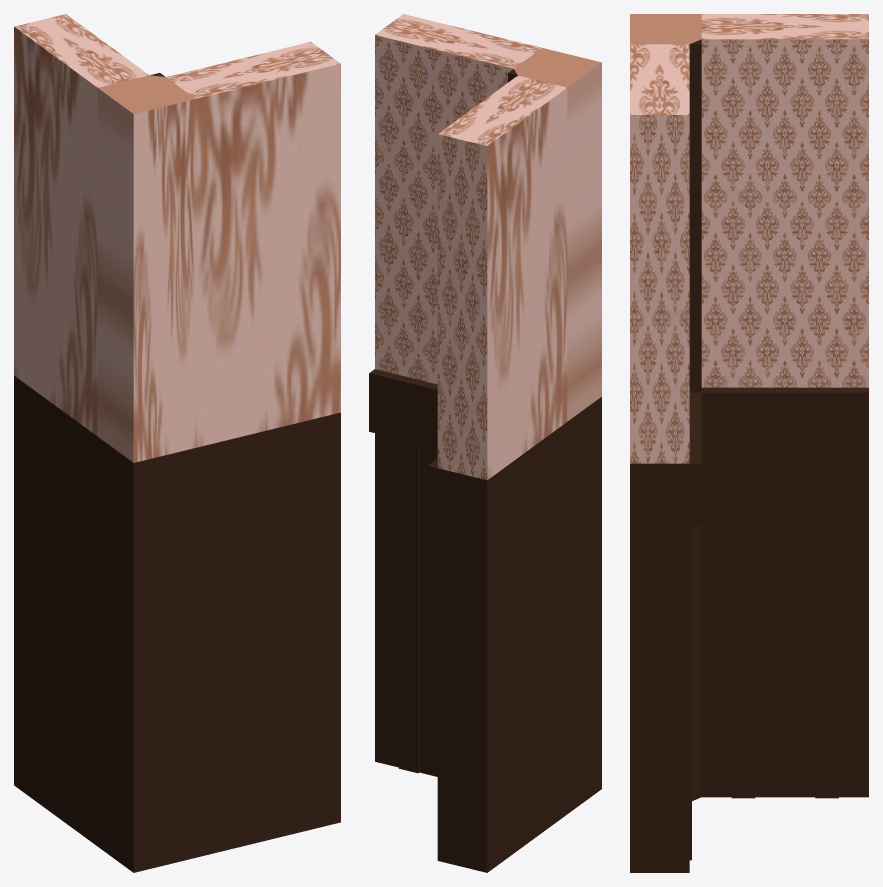
The model's file is Kitchen Wall 1 Curve.fbx.
3 renders of one model, left to right at view 1: azimuth 30°, elevation 25°; view 2: azimuth 150°, elevation 25°; view 3: azimuth 270°, elevation 25°, orthographic. The views are drawn at different scales.
Visible parts, largest first — view 1: Cube.031; view 2: Cube.031; view 3: Cube.031.
Boxes of the visible parts, x1=… form: Cube.031: x1=14, y1=14, x2=340, y2=872; Cube.031: x1=369, y1=14, x2=601, y2=872; Cube.031: x1=630, y1=14, x2=868, y2=872.
Size of the model in its own units: 200 by 700 by 200.
